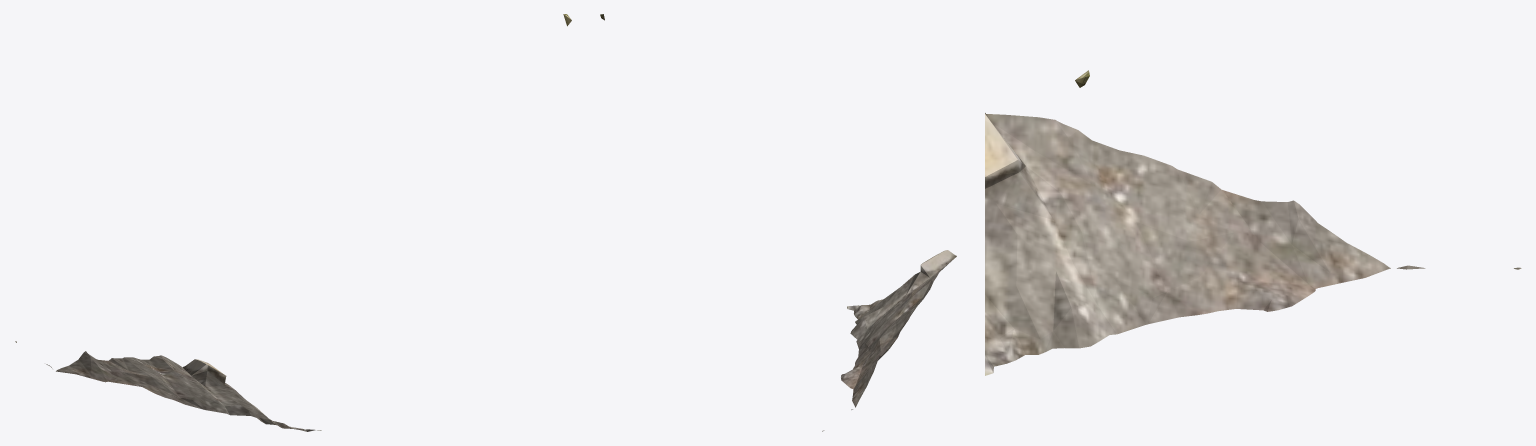
The picture shows the model from 3 angles, left to right: view 1: azimuth 30°, elevation 25°; view 2: azimuth 150°, elevation 25°; view 3: azimuth 270°, elevation 25°; orthographic projection. The views are drawn at different scales.
Bounding box in the file's own units: 5.9 × 4.41 × 4.14.
1 material, 1 textured.
